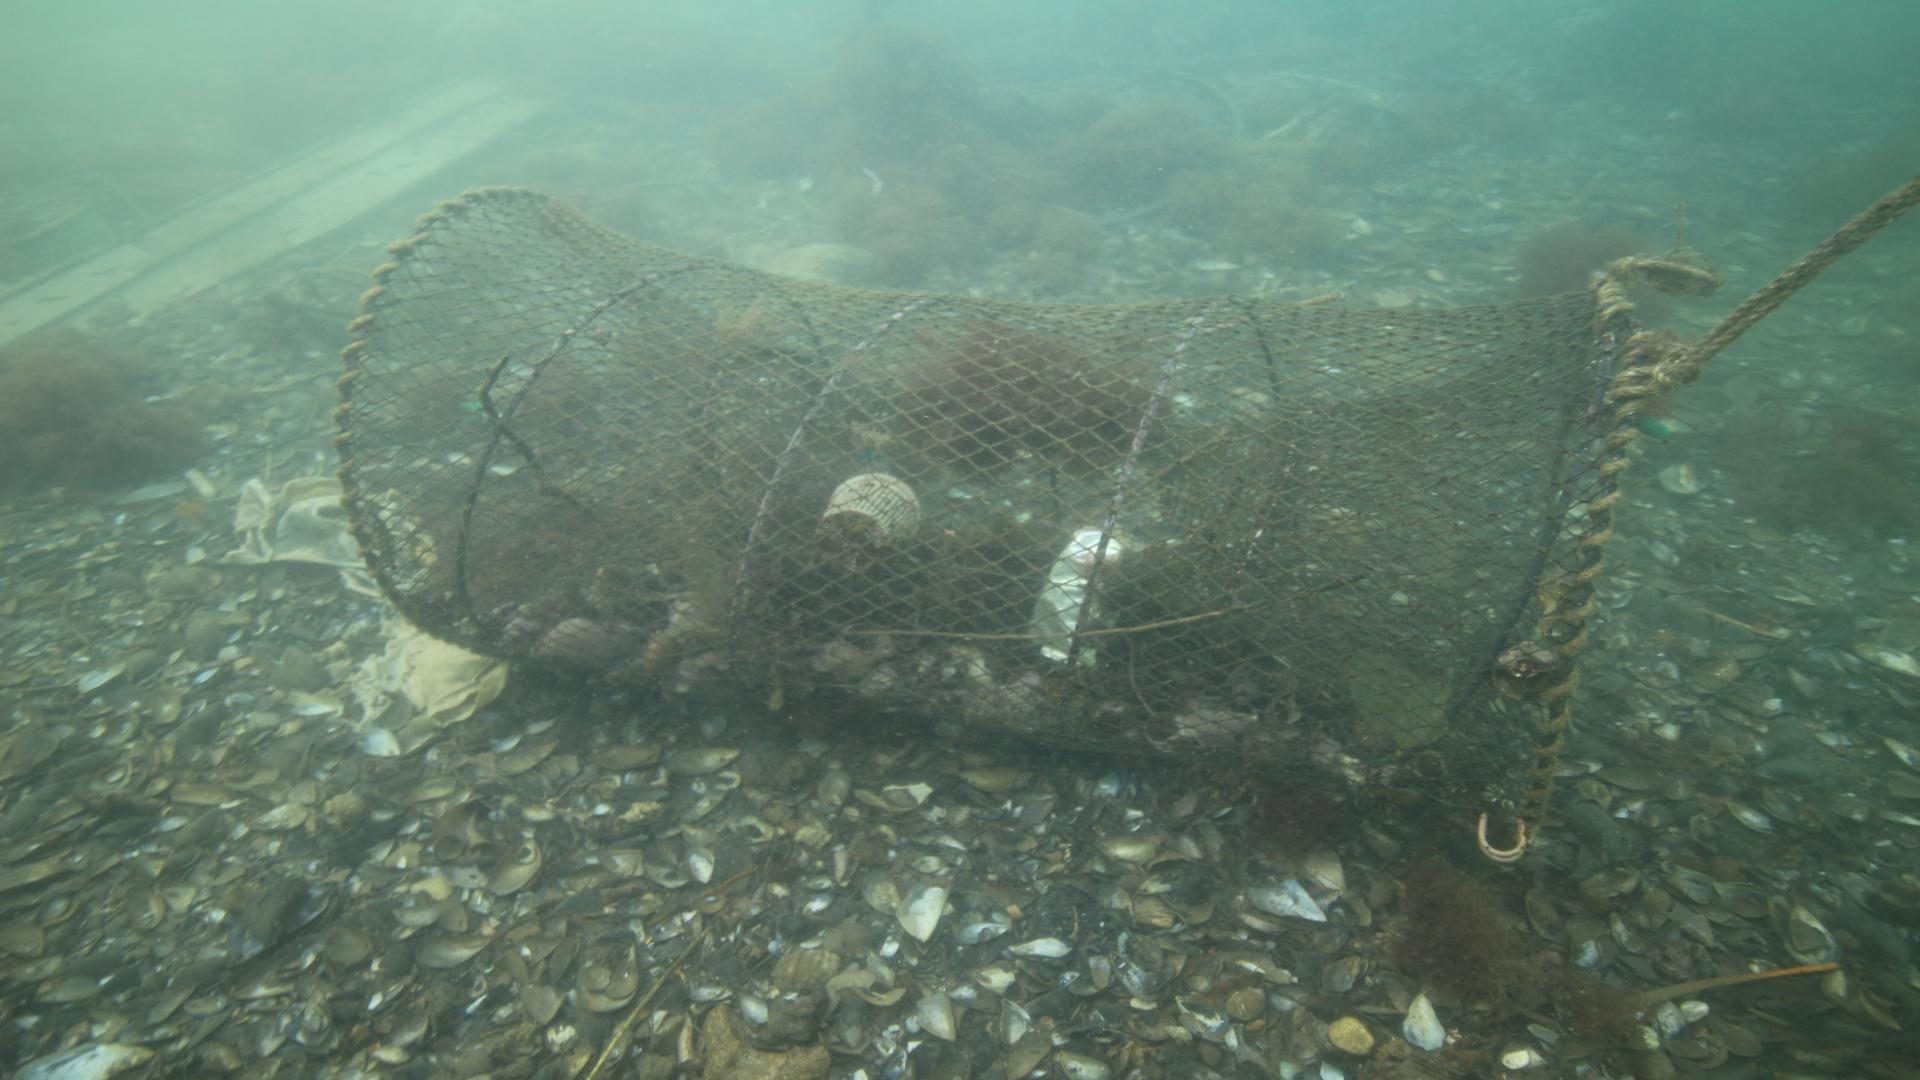bundle of ropes: (1665, 175, 1920, 377)
spring fish trap: (330, 185, 1638, 861)
